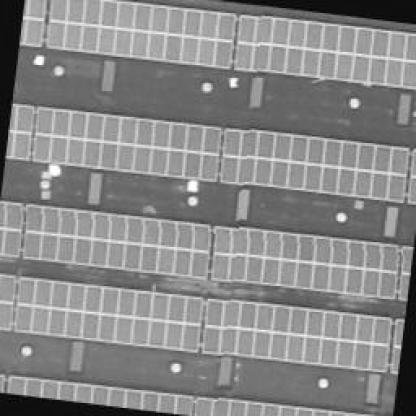solar-pv-panel: (46, 0, 236, 70), (19, 0, 46, 45)
